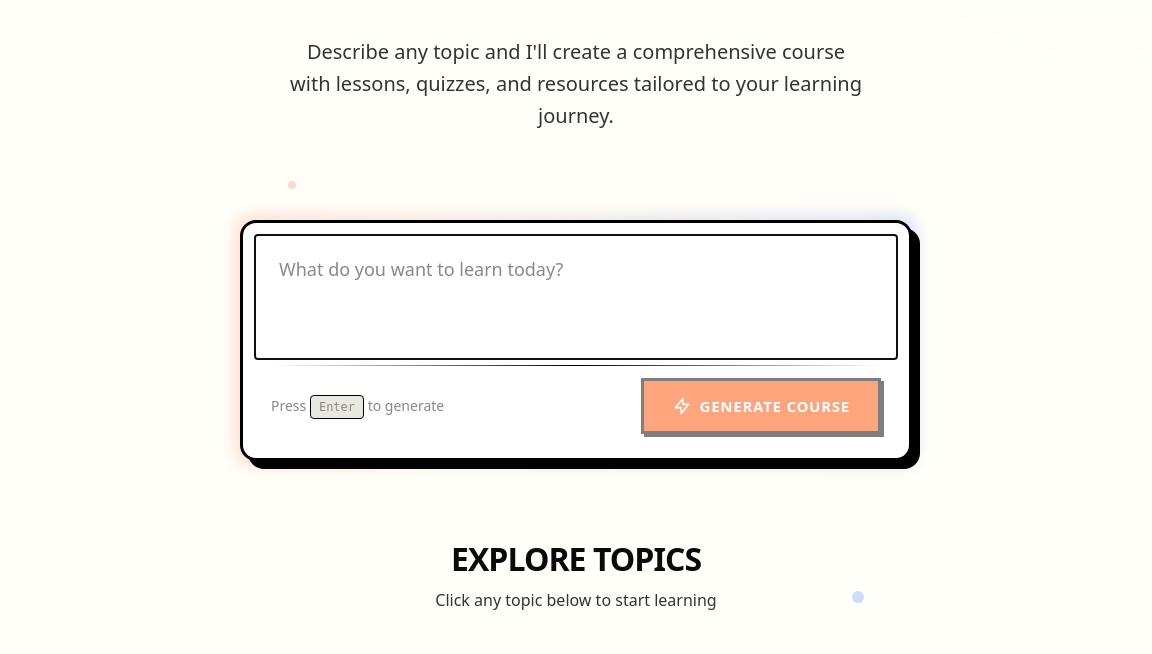
it: Home Page - Course Generation Flow › should enable submit button when topic has content
The image size is (1152, 654).
(page scrolled)
Type "Testing" into the text box with placeholder "What do you want to learn today?" at (576, 297), box [255,235,897,359]
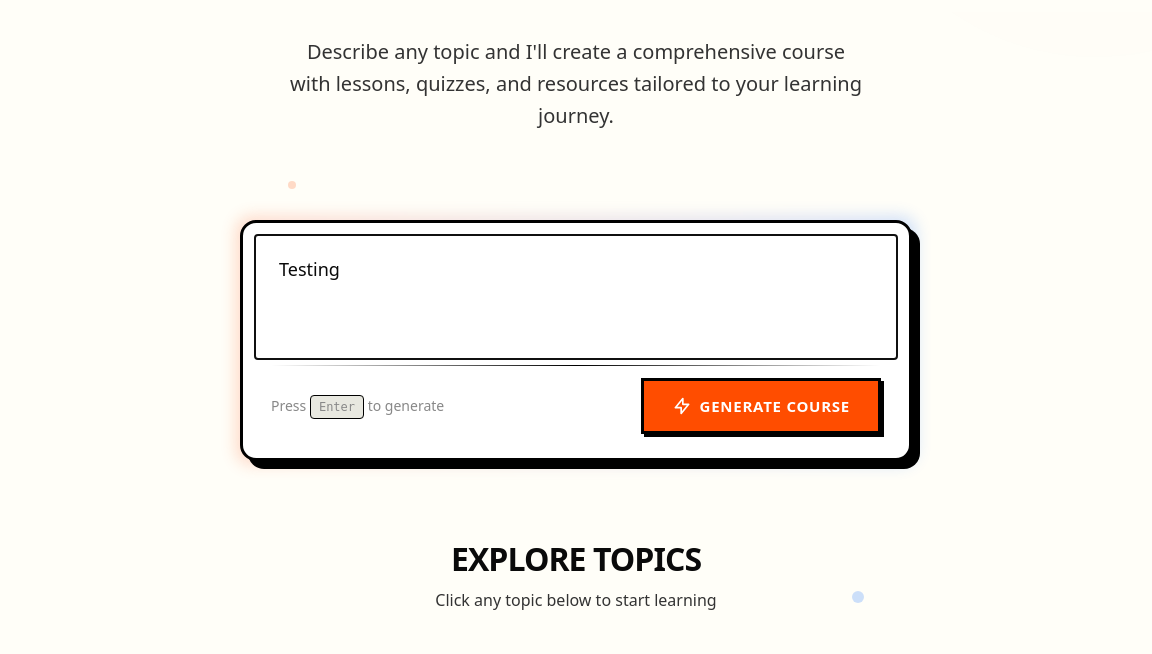
Expected: the button "Generate Course" is enabled, [641,378,881,434]
